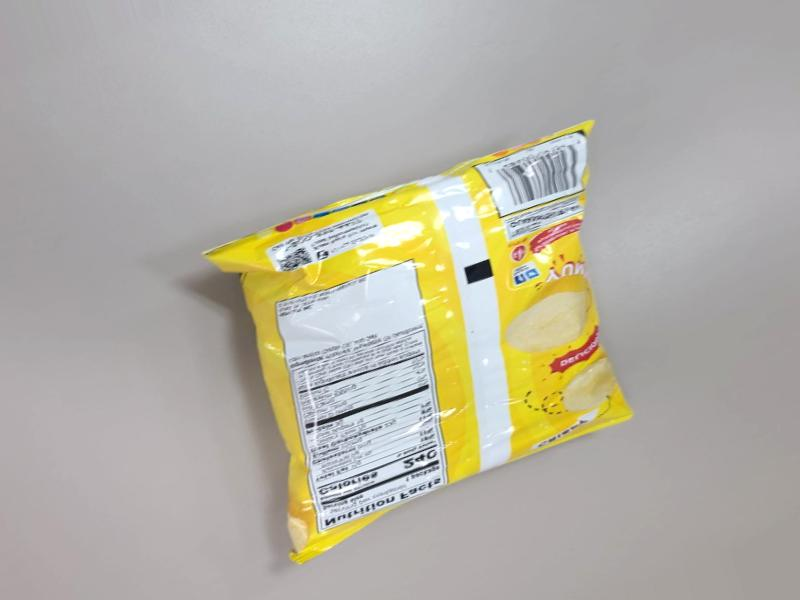lays: (308, 217, 665, 585)
